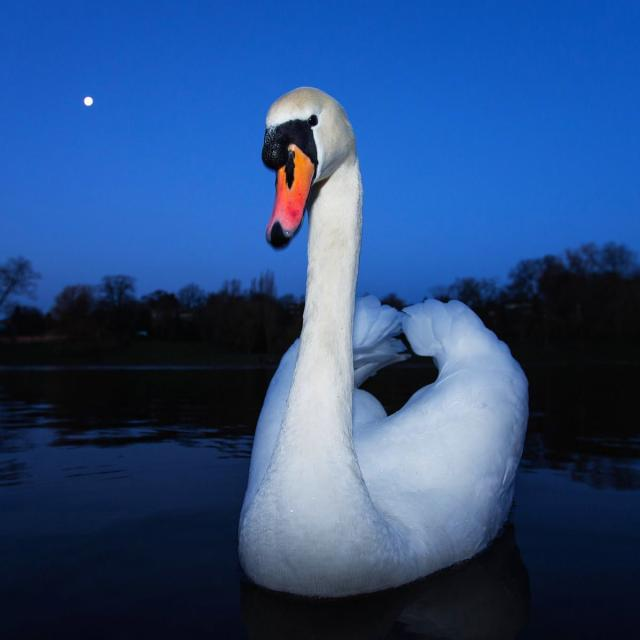swan: (238, 87, 529, 597)
